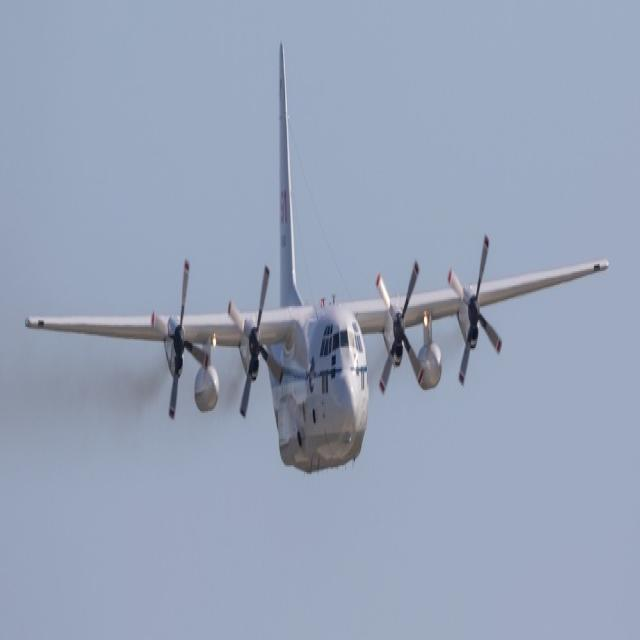C130: (8, 12, 623, 471)
